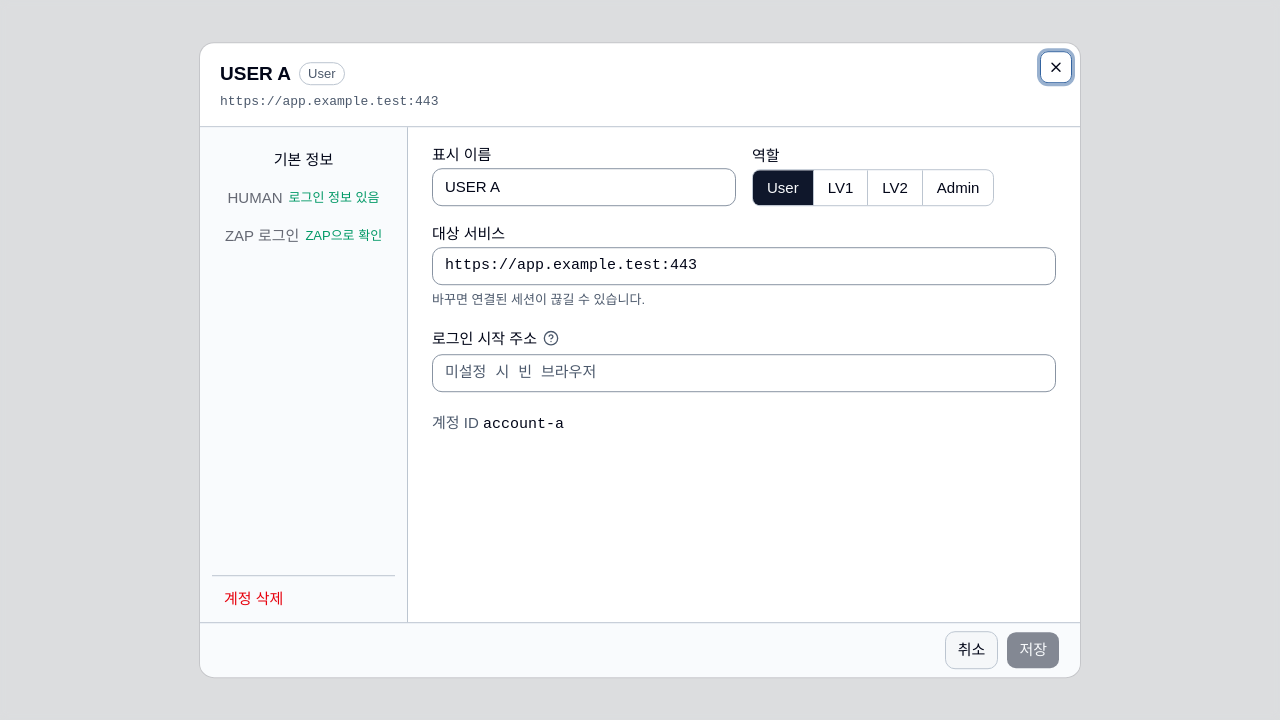
lists what an account delete also clears
The width and height of the screenshot is (1280, 720).
Step 1. Click the button "계정 삭제" → {"x": 254, "y": 599}, box [212,588,295,610]
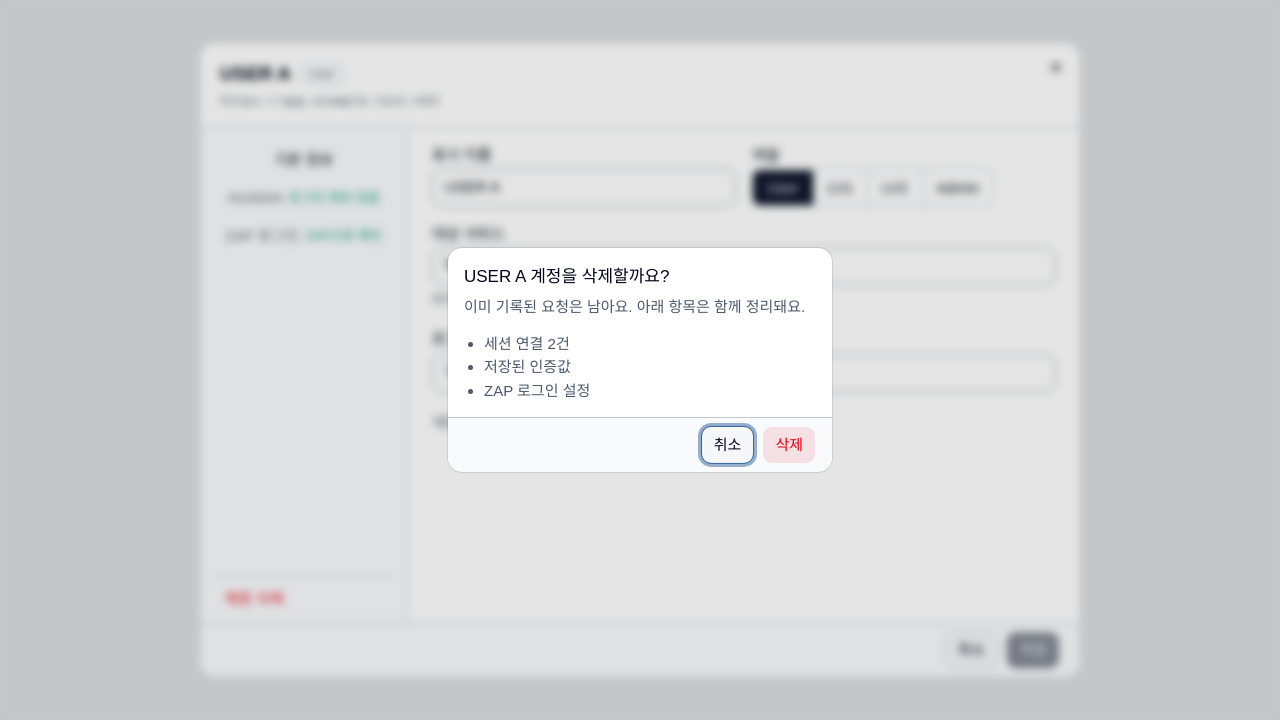
expect the list named "함께 정리되는 항목" shows "세션 연결 2건": met, box [484,335,570,352]
expect the list named "함께 정리되는 항목" shows "저장된 인증값": met, box [484,358,571,375]
expect the list named "함께 정리되는 항목" shows "ZAP 로그인 설정": met, box [484,382,590,399]
